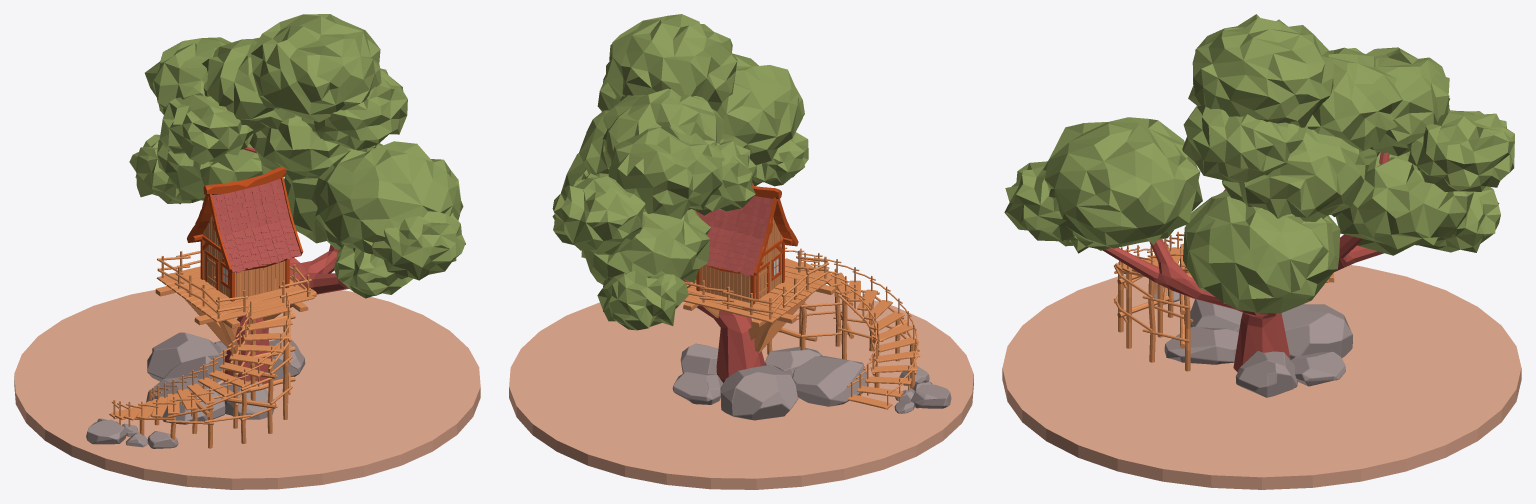
File: treehouse.fbx
3 renders of one model, left to right at view 1: azimuth 30°, elevation 25°; view 2: azimuth 150°, elevation 25°; view 3: azimuth 270°, elevation 25°, orthographic. The views are drawn at different scales.
Parts seen in each view (by area): view 1: Circle, Icosphere.005, Icosphere, Plane.001, Plane.002, Icosphere.003, Icosphere.006, Icosphere.004, Icosphere.008, Plane, Icosphere.009, Icosphere.001 (+10 smaller); view 2: Circle, Icosphere, Plane.001, Icosphere.001, Icosphere.005, Icosphere.002, Icosphere.011, Plane.002, Icosphere.004, Icosphere.010, Plane, Cube.004 (+9 smaller); view 3: Circle, Icosphere.005, Icosphere.012, Icosphere, Icosphere.011, Icosphere.009, Icosphere.002, Icosphere.008, Icosphere.004, Vert.002, Icosphere.001, Icosphere.006 (+7 smaller).
Part boxes in pixels (x1,y1,x2,y2): Circle: (14, 290, 480, 489); Icosphere.005: (314, 141, 463, 254); Icosphere: (251, 14, 381, 122); Plane.001: (187, 167, 303, 301); Plane.002: (109, 292, 292, 429); Icosphere.003: (160, 94, 253, 164); Icosphere.006: (371, 211, 465, 280); Icosphere.004: (202, 37, 296, 132); Icosphere.008: (301, 68, 407, 150); Plane: (155, 266, 316, 353); Icosphere.009: (249, 116, 376, 180); Icosphere.001: (145, 37, 231, 114); Circle: (509, 291, 973, 489); Icosphere: (606, 14, 737, 111); Plane.001: (695, 186, 798, 304); Icosphere.001: (608, 125, 724, 219); Icosphere.005: (717, 53, 802, 164); Icosphere.002: (552, 173, 645, 254); Icosphere.011: (581, 209, 710, 284); Plane.002: (785, 247, 920, 409); Icosphere.004: (602, 88, 723, 160); Icosphere.010: (597, 269, 688, 330); Plane: (683, 266, 835, 352); Cube.004: (720, 364, 798, 420); Circle: (1002, 264, 1521, 489); Icosphere.005: (1043, 117, 1202, 248); Icosphere.012: (1183, 190, 1340, 313); Icosphere: (1188, 14, 1334, 127); Icosphere.011: (1335, 148, 1473, 255); Icosphere.009: (1222, 128, 1369, 221); Icosphere.002: (1408, 110, 1514, 191); Icosphere.008: (1182, 104, 1307, 182); Icosphere.004: (1306, 47, 1402, 151); Vert.002: (1103, 152, 1389, 371); Icosphere.001: (1366, 47, 1450, 156); Icosphere.006: (1004, 161, 1074, 241).
Size of the model in its own units: 3722 by 3173 by 3722.
